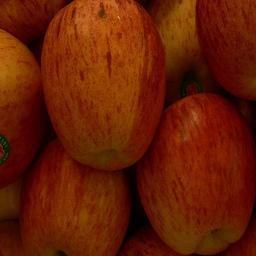apple: (41, 1, 165, 169), (133, 92, 256, 256), (16, 138, 128, 256), (1, 29, 46, 190), (199, 1, 256, 100)
